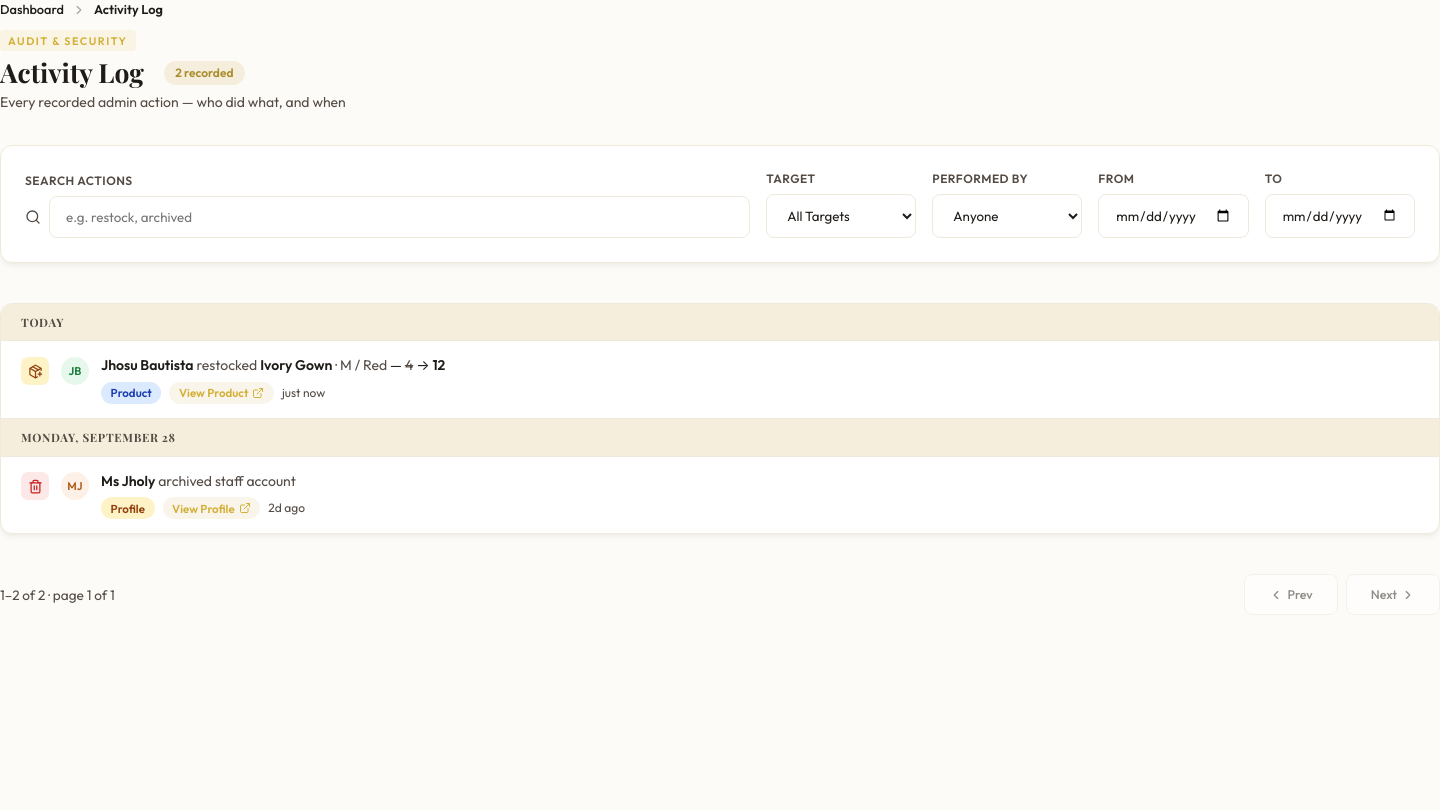
Test: ActivityLog › closes the drawer on Escape
This screenshot has width=1440, height=810.
Click the button "restocked" at (147, 365), box top-left (1, 342), bottom-right (1439, 418)
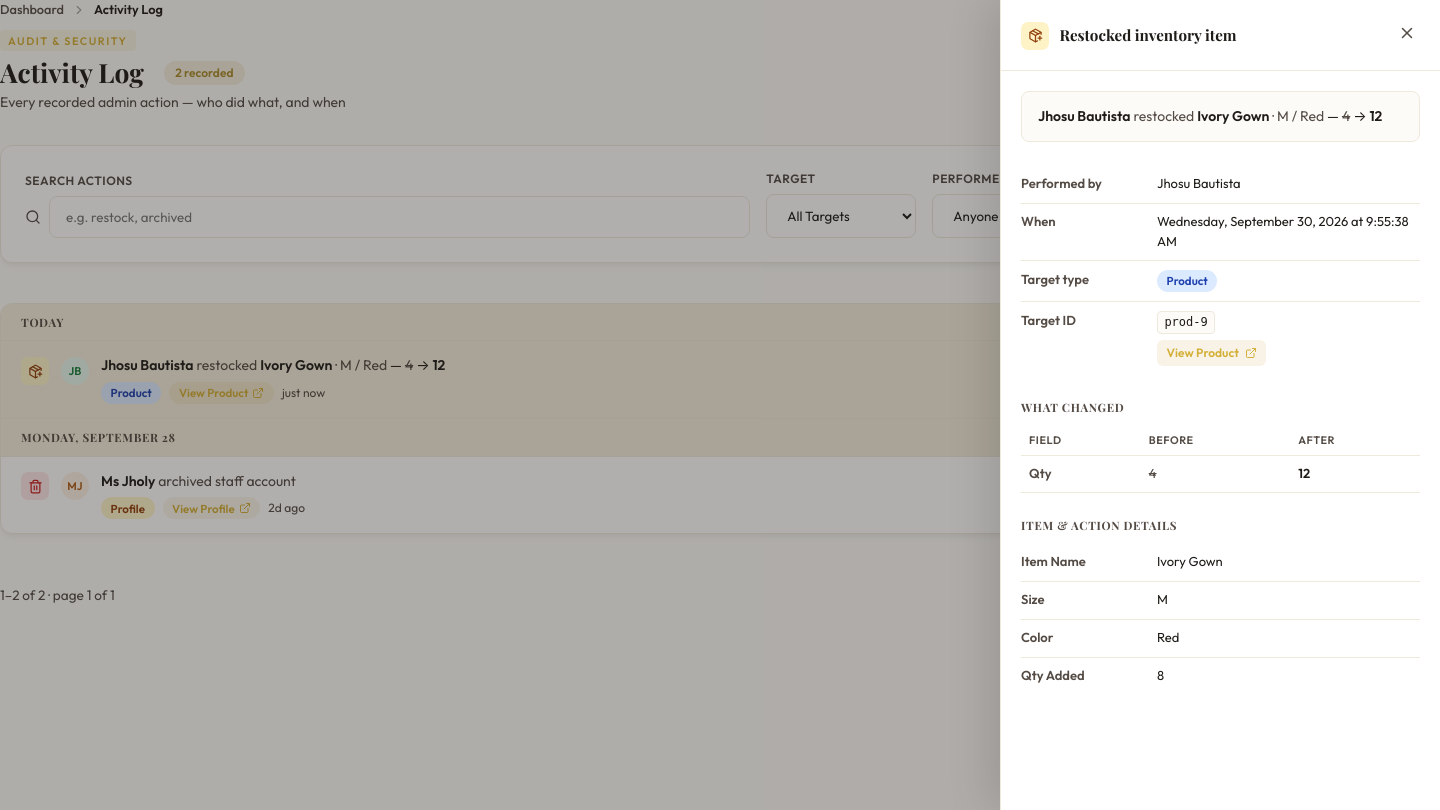
Check: the dialog is shown, box top-left (1000, 0), bottom-right (1439, 809)
Press Escape
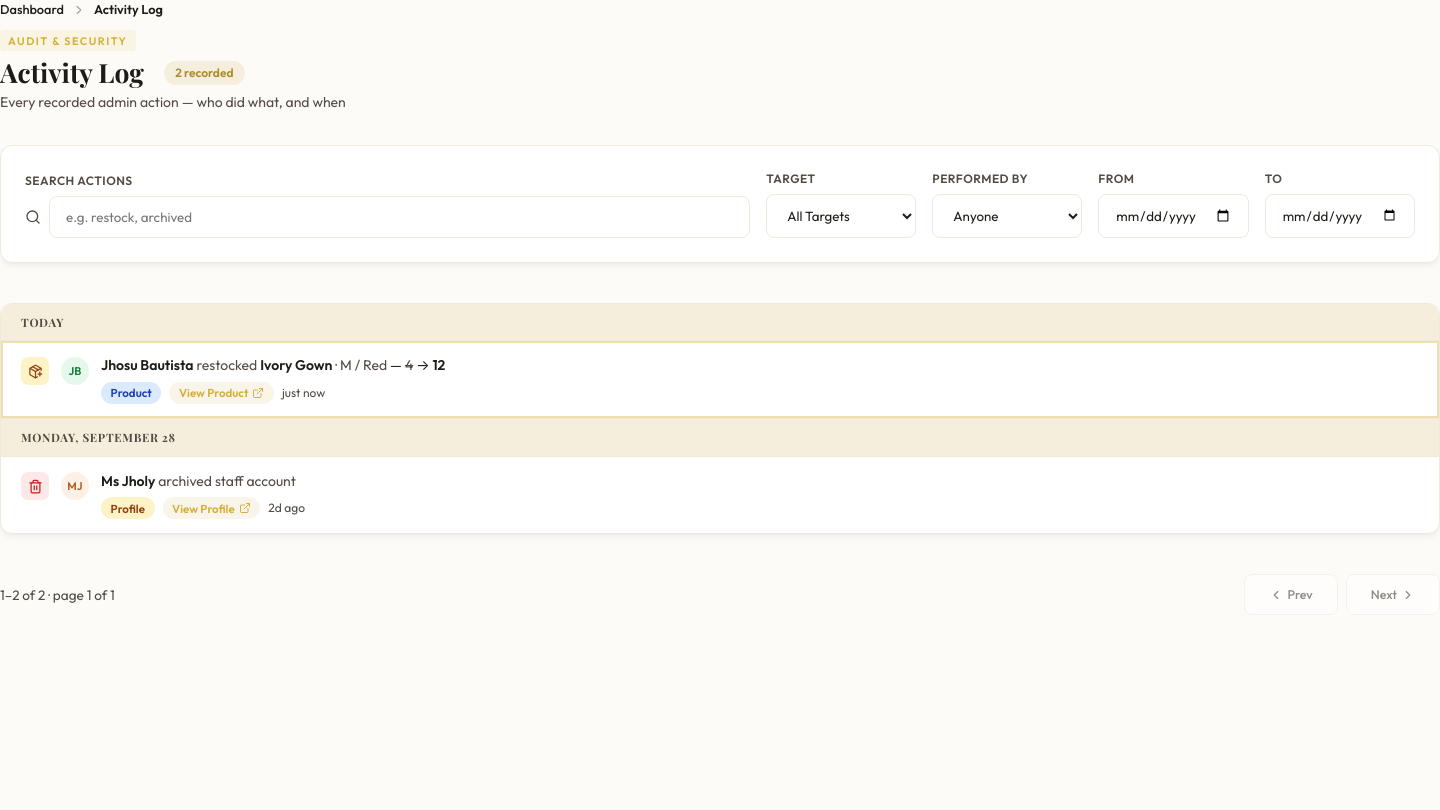
Check: the dialog is gone
